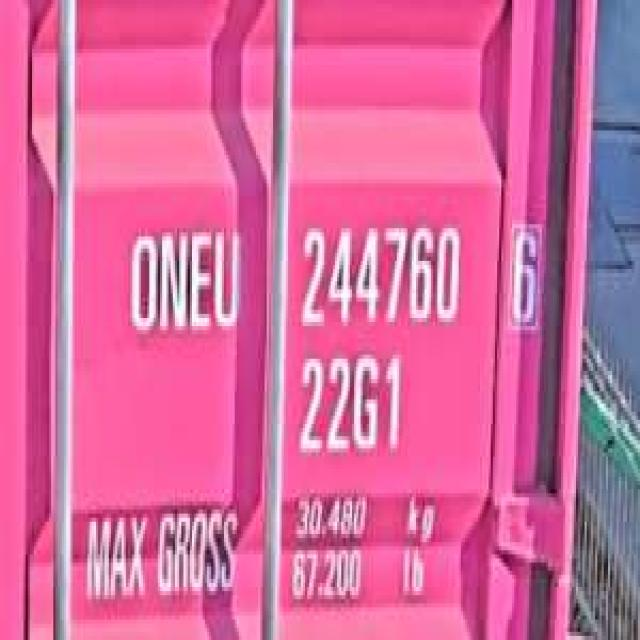dv: (505, 216, 542, 326)
owner: (124, 216, 241, 338)
serial: (296, 212, 463, 330)
size: (294, 346, 408, 461)
